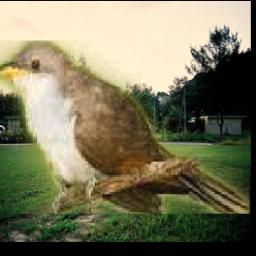Cuckoo: (0, 40, 250, 214)
